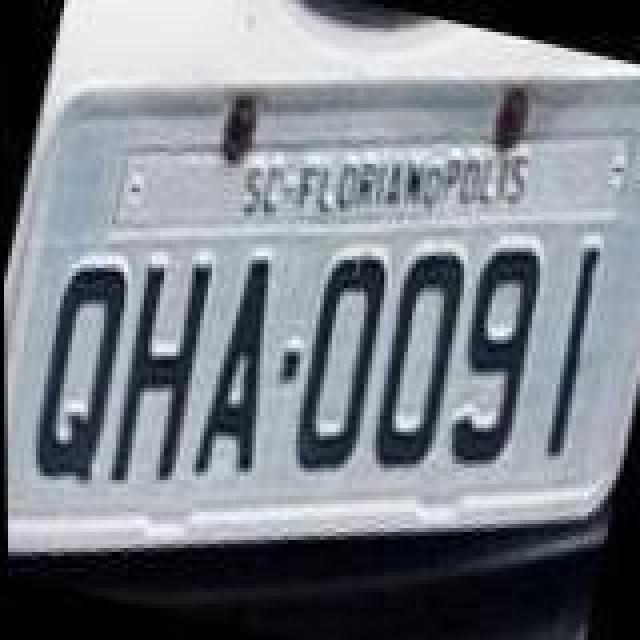1: (532, 240, 612, 464)
9: (434, 238, 550, 474)
A: (186, 248, 302, 488)
H: (92, 252, 220, 500)
O: (280, 250, 400, 486), (360, 242, 480, 478)
Q: (16, 260, 136, 492)
